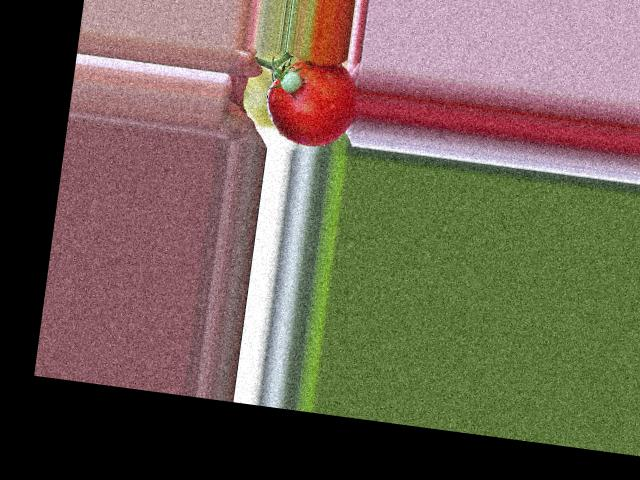tomato: (261, 55, 362, 151)
